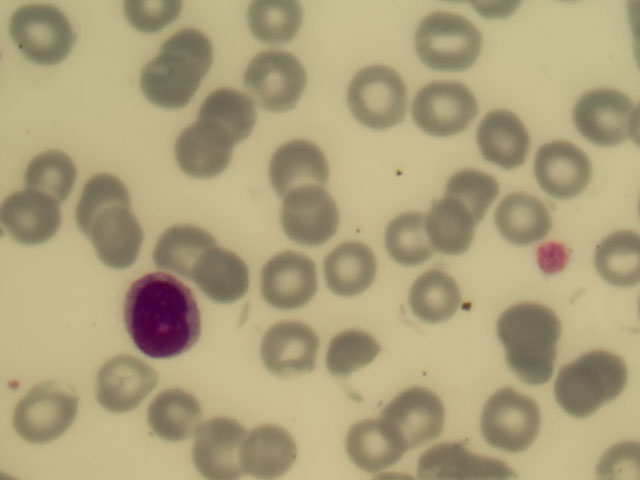Platelets: (534, 239, 569, 276)
RBC: (5, 2, 77, 75), (126, 53, 198, 126), (165, 120, 237, 193), (198, 72, 270, 145), (243, 40, 315, 113), (341, 61, 413, 134), (413, 3, 485, 76), (402, 63, 474, 136), (475, 98, 547, 171), (429, 152, 501, 225), (414, 202, 486, 275), (358, 197, 430, 270), (270, 183, 342, 256), (264, 128, 336, 201), (261, 235, 333, 308), (314, 222, 386, 295), (197, 246, 269, 319), (143, 210, 215, 283), (92, 209, 164, 282), (74, 164, 146, 237), (4, 188, 76, 261), (23, 132, 95, 205), (396, 266, 468, 339), (488, 279, 560, 352), (500, 321, 572, 394), (538, 357, 610, 430), (565, 335, 637, 408), (568, 216, 640, 289), (568, 75, 640, 148), (476, 377, 548, 450), (386, 377, 458, 450), (331, 407, 403, 480), (323, 321, 395, 394), (261, 314, 333, 387), (246, 401, 318, 474), (192, 407, 264, 480), (143, 381, 215, 454), (95, 352, 167, 425), (1, 373, 72, 446), (159, 11, 224, 77), (240, 1, 309, 48)
WBC: (122, 270, 203, 361)
